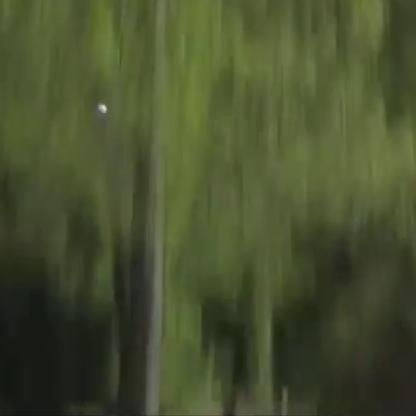golfball: (94, 98, 105, 114)
